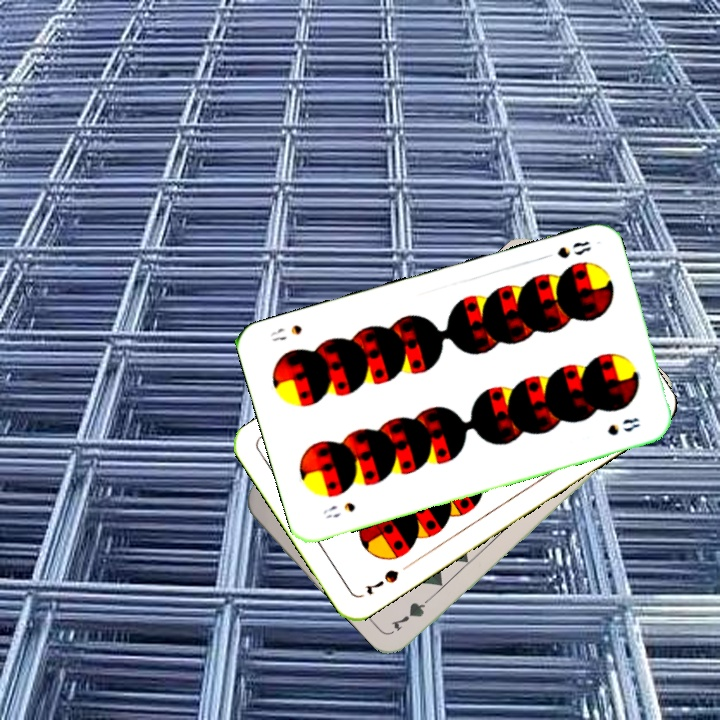G7: (388, 589, 439, 634)
S7: (362, 565, 402, 598)
S8: (553, 237, 594, 261), (319, 498, 358, 521)
